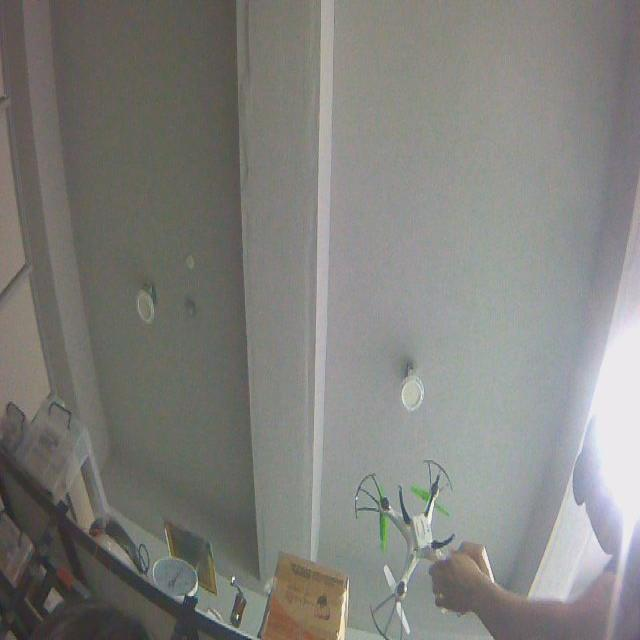drone: (353, 455, 474, 639)
